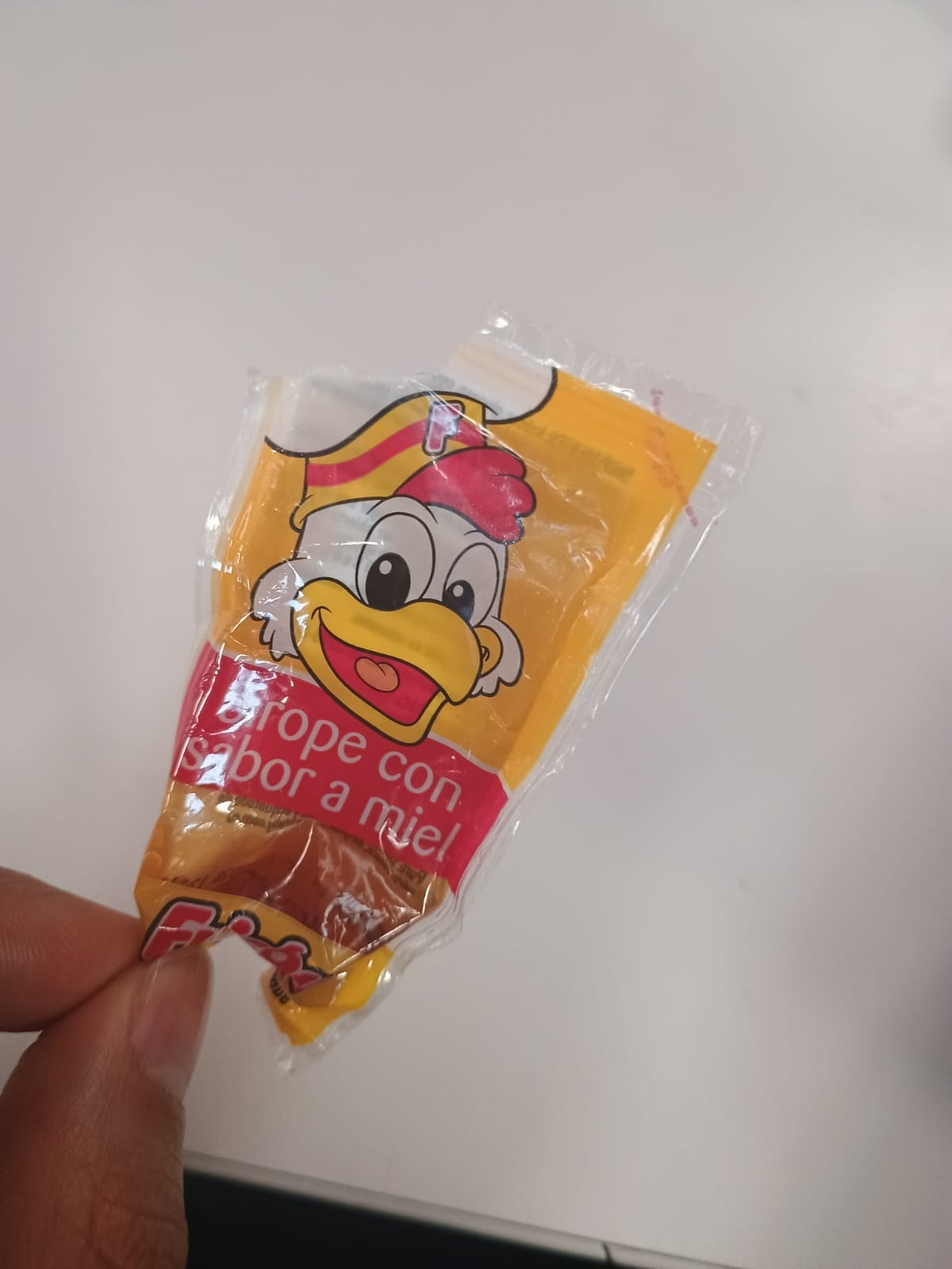Ordinario: (135, 311, 759, 1080)
